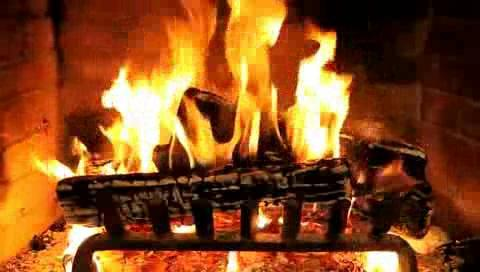fire: (96, 2, 367, 170)
